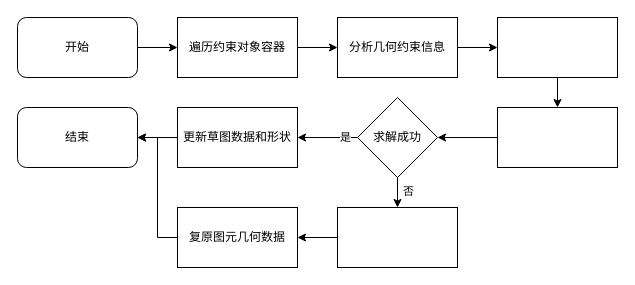
The diagram is 635 pixels wide and 285 high, and some of its shapes have lost their labels. Here are the shapes that lost their labels. From the top down, the centre of each, then its label:
(x=557, y=47): 求解器内部创建真正的约束对象
(x=557, y=137): 约束求解
(x=397, y=237): 输出求解失败原因并将冗余或冲突约束高亮
